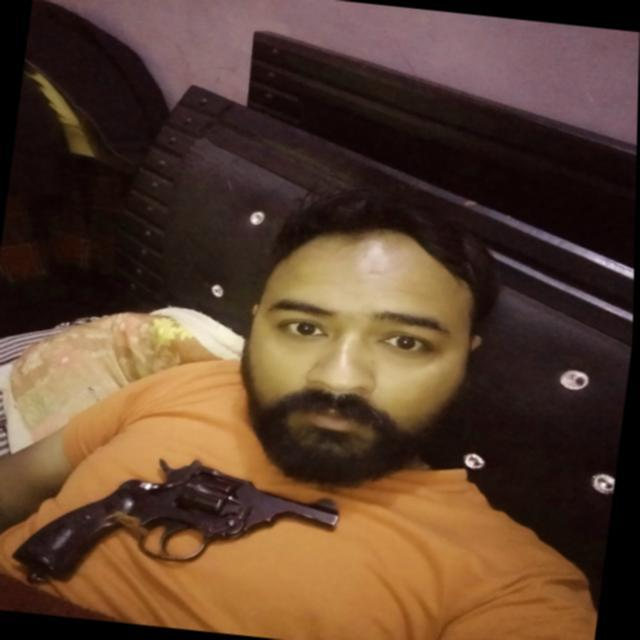weapon: (8, 433, 355, 618)
